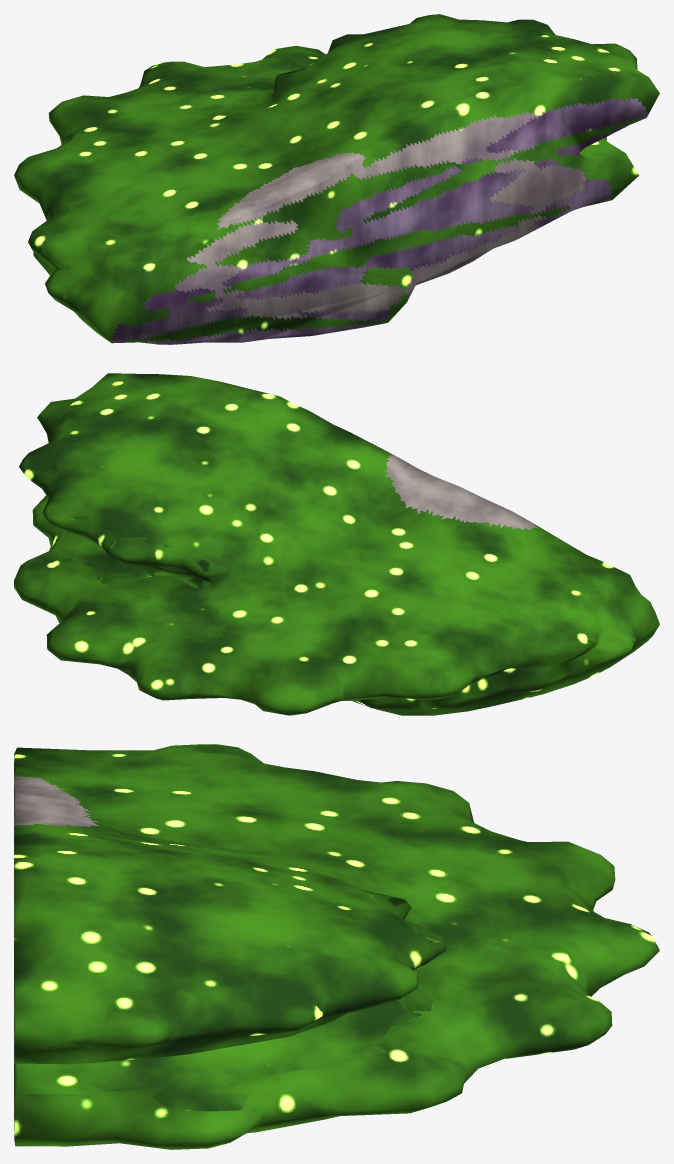
The model's file is hongo_pequeno_b.fbx.
The picture shows the model from 3 angles, top to bottom: view 1: azimuth 30°, elevation 25°; view 2: azimuth 150°, elevation 25°; view 3: azimuth 270°, elevation 25°; orthographic projection. The views are drawn at different scales.
Parts seen in each view (by area): view 1: hongo; view 2: hongo; view 3: hongo.
Part boxes in pixels (box(x1,y1,x2,y2)): hongo: box(14, 14, 659, 344); hongo: box(14, 373, 659, 715); hongo: box(14, 744, 659, 1149).
Size of the model in its own units: 1.5 by 0.4977 by 1.
1 material, 1 textured.
